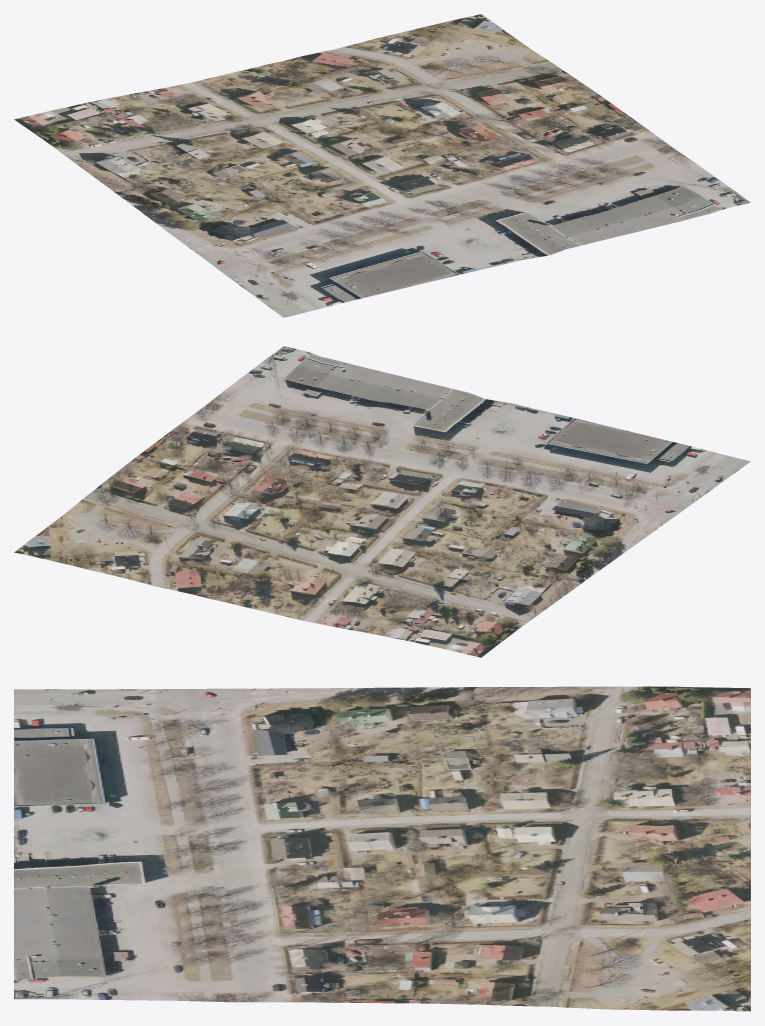
Rendered from CM_Terrain_24488410_6819180.fbx.
The picture shows the model from 3 angles, top to bottom: view 1: azimuth 30°, elevation 25°; view 2: azimuth 150°, elevation 25°; view 3: azimuth 270°, elevation 25°; orthographic projection. The views are drawn at different scales.
Parts seen in each view (by area): view 1: CM_Terrain_24488410_6819180_LOD0; view 2: CM_Terrain_24488410_6819180_LOD0; view 3: CM_Terrain_24488410_6819180_LOD0.
Boxes of the visible parts, x1,y1,x2,y2 form: CM_Terrain_24488410_6819180_LOD0: [14, 14, 750, 317]; CM_Terrain_24488410_6819180_LOD0: [14, 346, 750, 657]; CM_Terrain_24488410_6819180_LOD0: [14, 686, 750, 1011].
Size of what is drawn, in the model's own units: 205 by 4.35 by 205.
